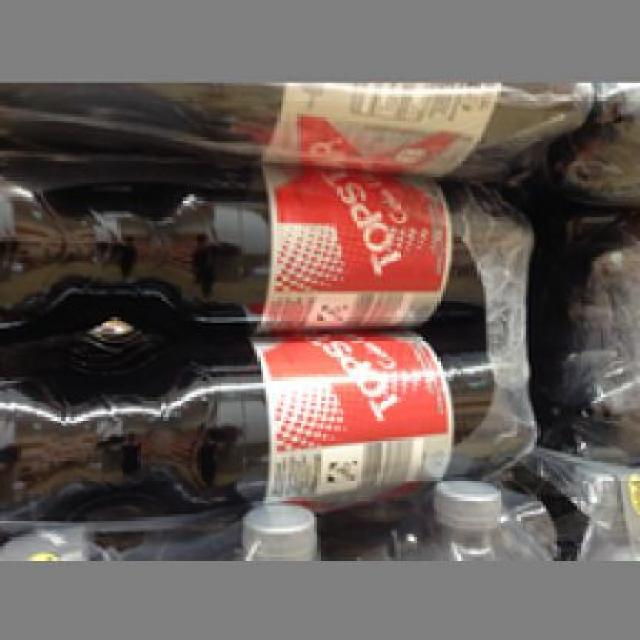Soda: (6, 329, 526, 520), (0, 148, 529, 324), (0, 83, 592, 147)
